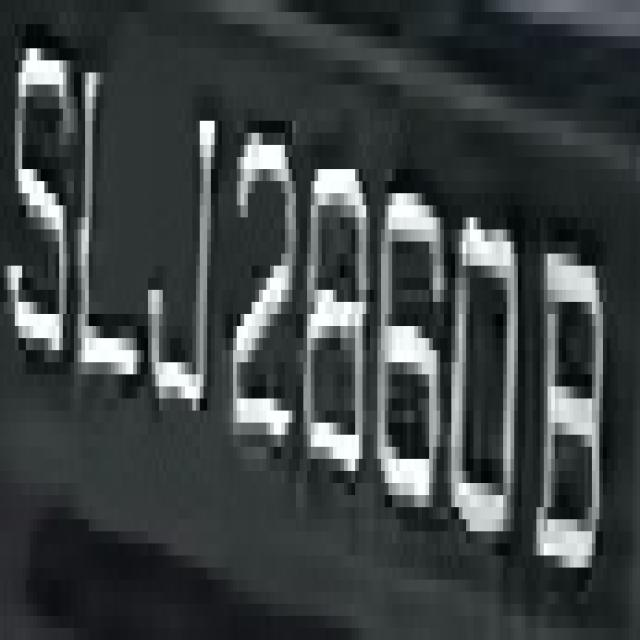0: (451, 181, 522, 556)
2: (230, 96, 304, 459)
6: (366, 169, 452, 543)
8: (296, 121, 366, 519)
B: (532, 193, 606, 604)
J: (133, 60, 226, 483)
L: (66, 48, 140, 423)
S: (11, 0, 70, 398)
